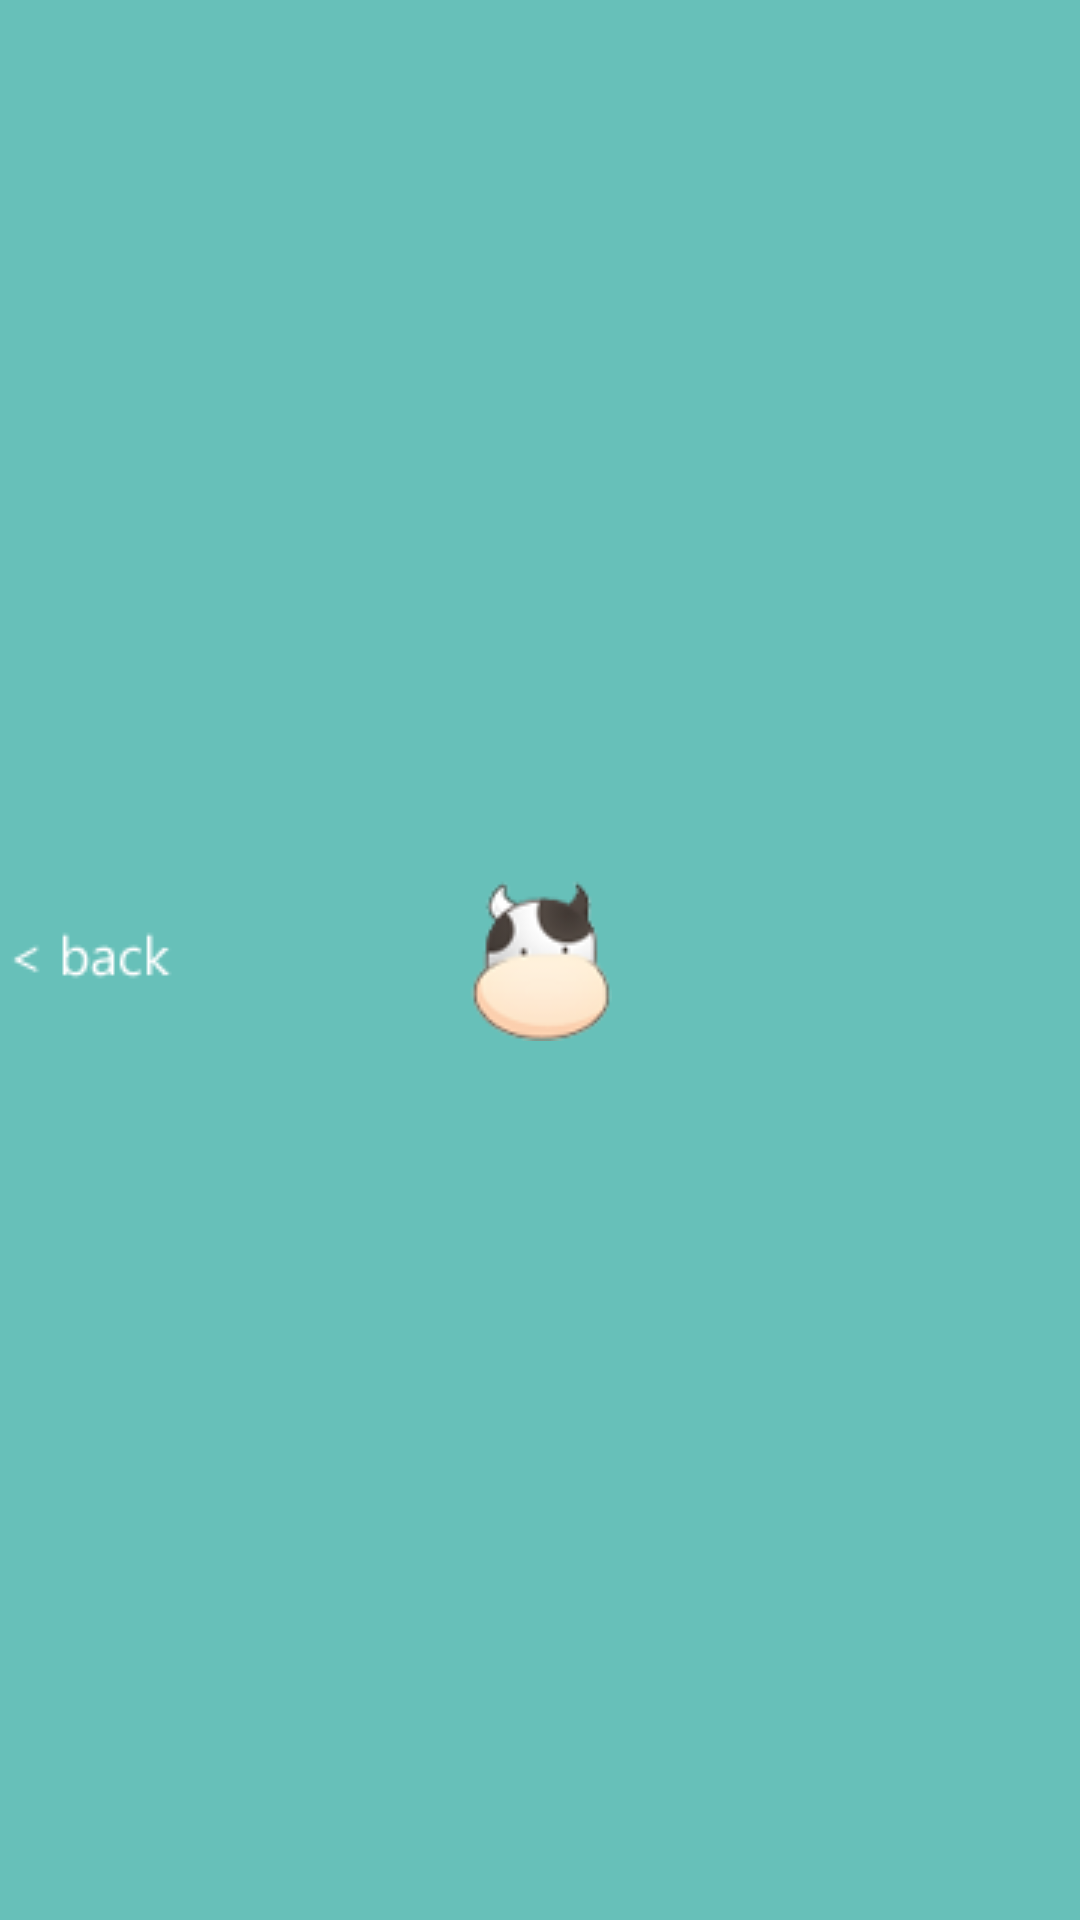

Point at icon controls on the screen. Image size 1080×1920, points as (x=x, y=y).
cowhead: (x=540, y=962)
